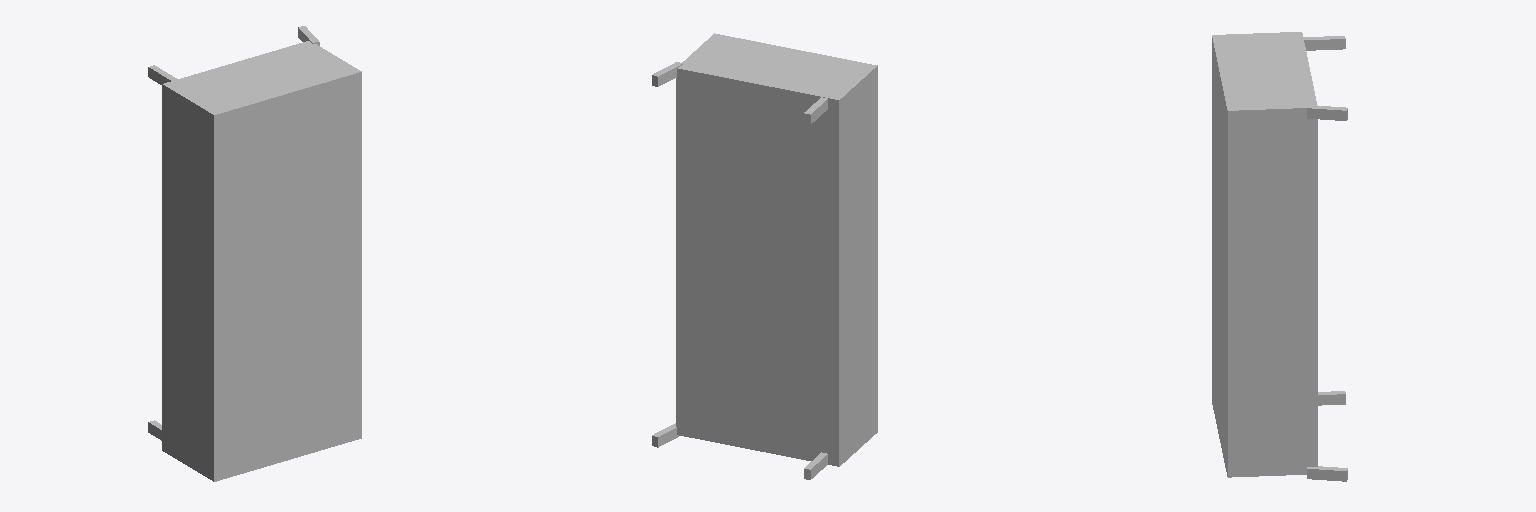
The model's file is couch_lowpoly.obj.
3 views of the same model, side by side, from view 1: azimuth 30°, elevation 25°; view 2: azimuth 150°, elevation 25°; view 3: azimuth 270°, elevation 25° (orthographic).
Visible parts, largest first — view 1: Cube.004_Cube.005; view 2: Cube.004_Cube.005; view 3: Cube.004_Cube.005.
Boxes of the visible parts, box(x1,y1,x2,y2) form: Cube.004_Cube.005: box(148, 26, 361, 481); Cube.004_Cube.005: box(652, 33, 877, 479); Cube.004_Cube.005: box(1212, 32, 1347, 481).
Bounding box in the file's own units: 0.4689 × 1.01 × 0.3348.